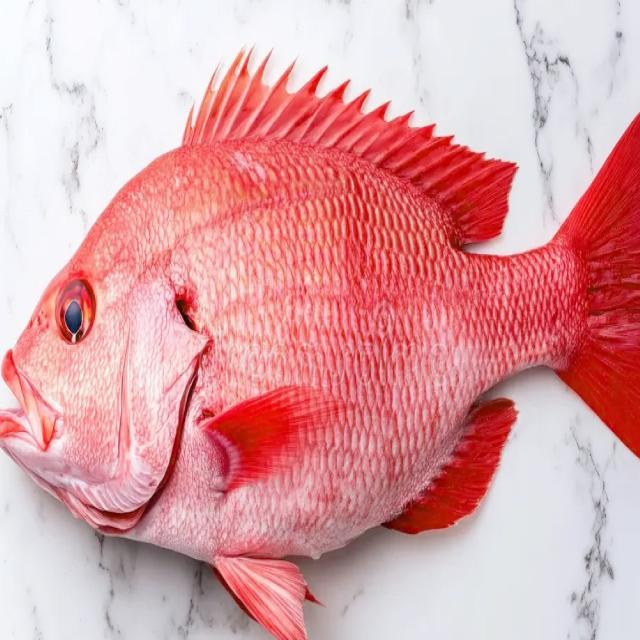Red Snapper: (0, 43, 640, 640)
